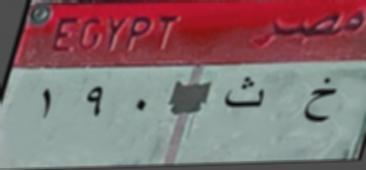0: (132, 94, 150, 117)
1: (37, 83, 55, 122)
9: (82, 82, 108, 121)
khaa: (299, 72, 338, 131)
thaa: (222, 76, 272, 115)
